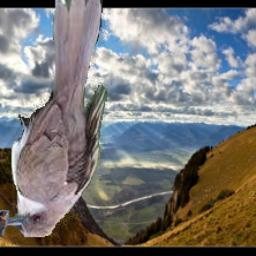Cuckoo: (3, 0, 107, 238)
Swallow: (0, 211, 9, 248)
